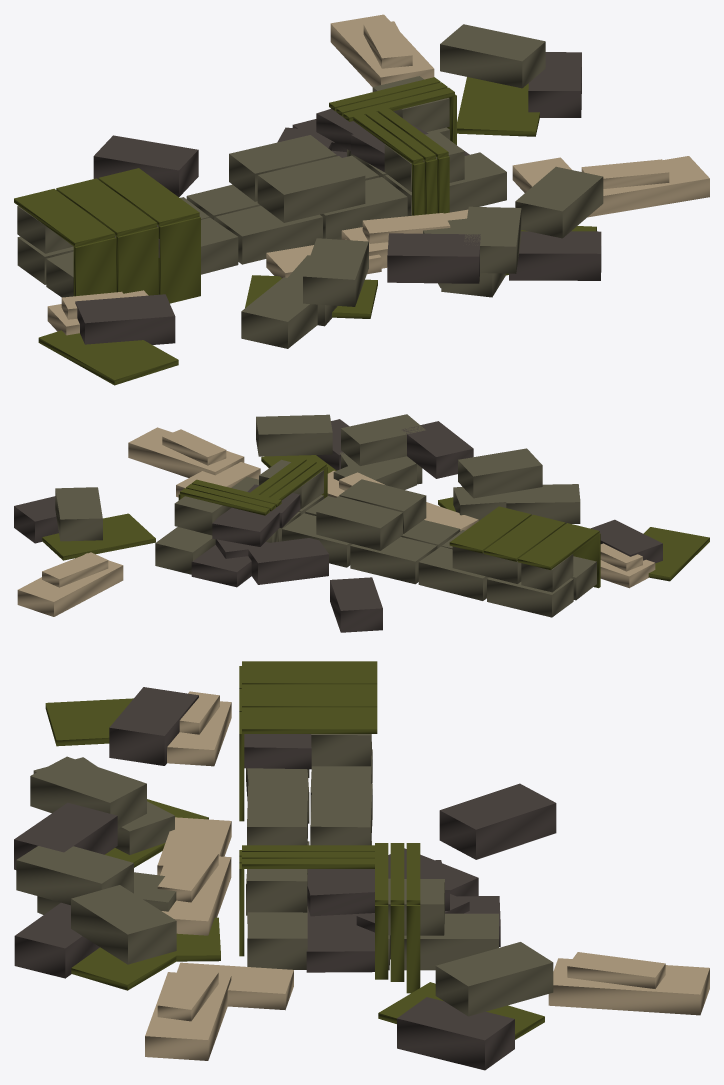
Rendered from SM_SacosRemateEspejo_v4_Red_e2_MuyDanado_LOD0.fbx.
The picture shows the model from 3 angles, top to bottom: view 1: azimuth 30°, elevation 25°; view 2: azimuth 150°, elevation 25°; view 3: azimuth 270°, elevation 25°; orthographic projection. The views are drawn at different scales.
Visible parts, largest first — view 1: SM_sacos_piezas_v38_LOD0; view 2: SM_sacos_piezas_v38_LOD0; view 3: SM_sacos_piezas_v38_LOD0.
Boxes of the visible parts, x1,y1,x2,y2 form: SM_sacos_piezas_v38_LOD0: (14,14,709,385); SM_sacos_piezas_v38_LOD0: (14,414,709,632); SM_sacos_piezas_v38_LOD0: (14,661,709,1070).
Bounding box in the file's own units: 6.82 × 0.7939 × 5.44.
